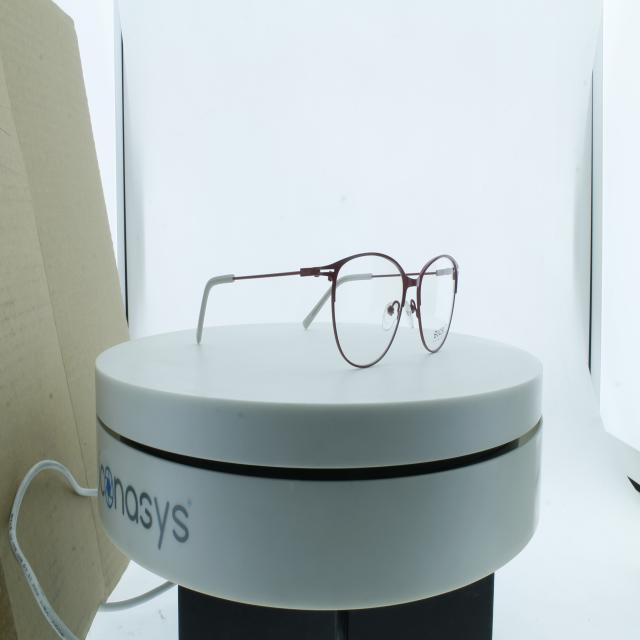Specs: (172, 227, 468, 384)
